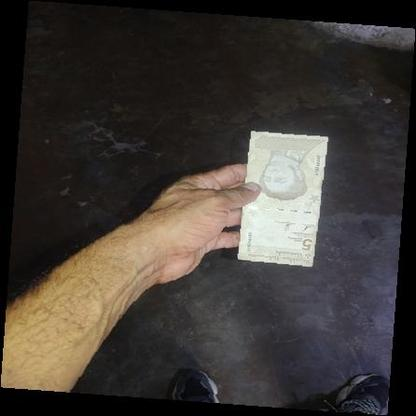five-front-vef: (235, 129, 330, 267)
